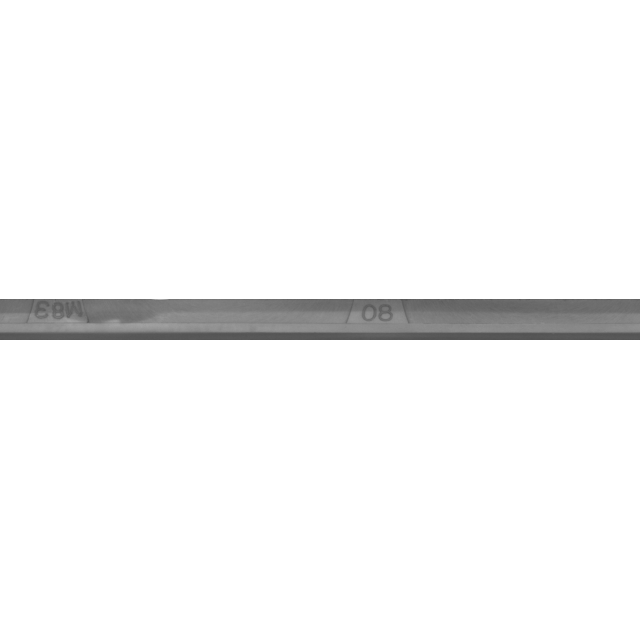mohao: (0, 270, 152, 370)
xuehao: (286, 270, 486, 370)
